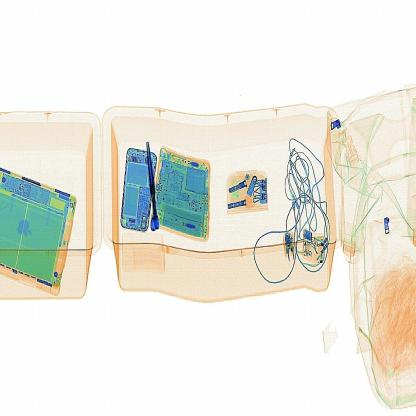gun: (132, 131, 170, 250)
